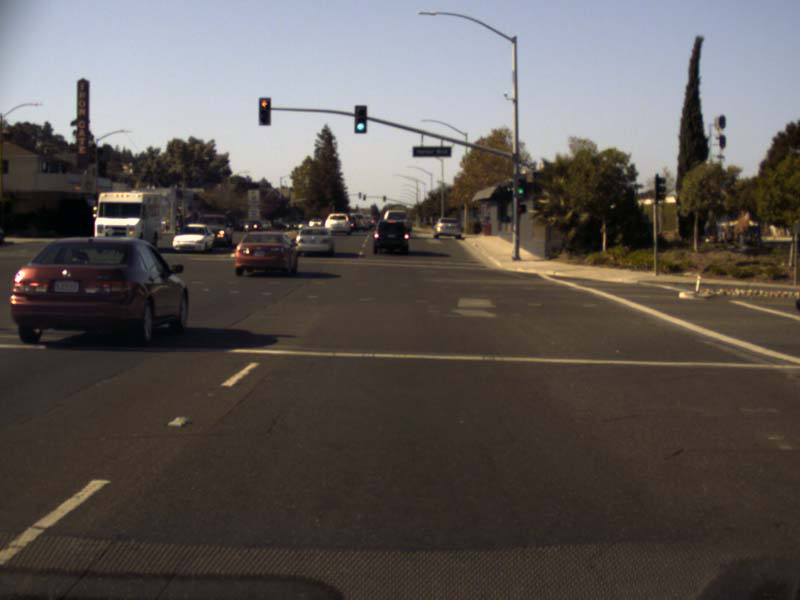Green: (355, 105, 366, 131), (517, 177, 524, 198)
Red: (260, 97, 270, 125)
